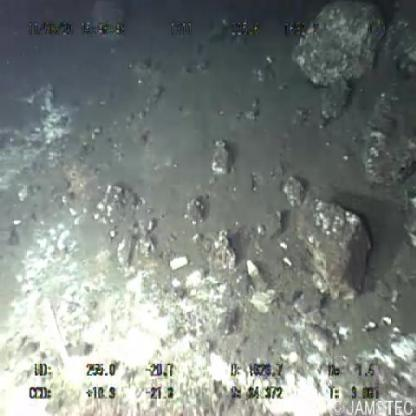Rác: (246, 258, 267, 294)
